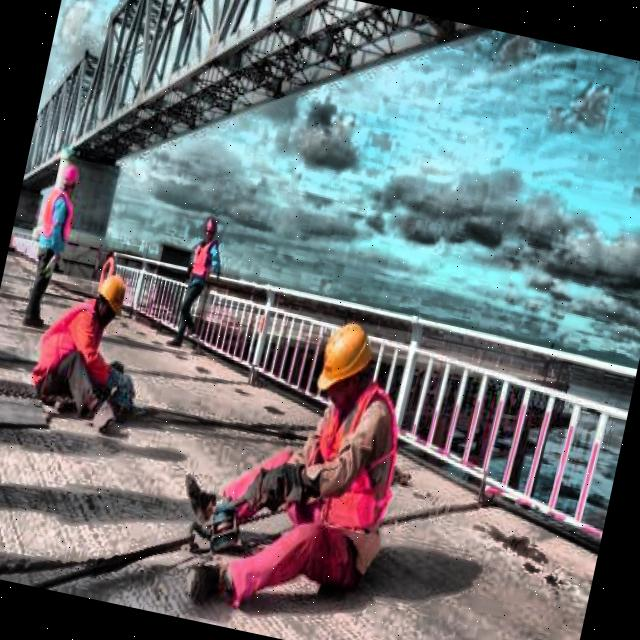helmet: (306, 304, 386, 419), (84, 268, 133, 336), (57, 157, 88, 200), (195, 209, 222, 251)
